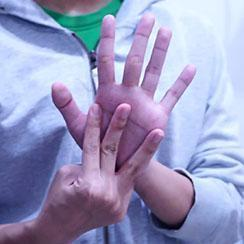M: (42, 0, 244, 239)
